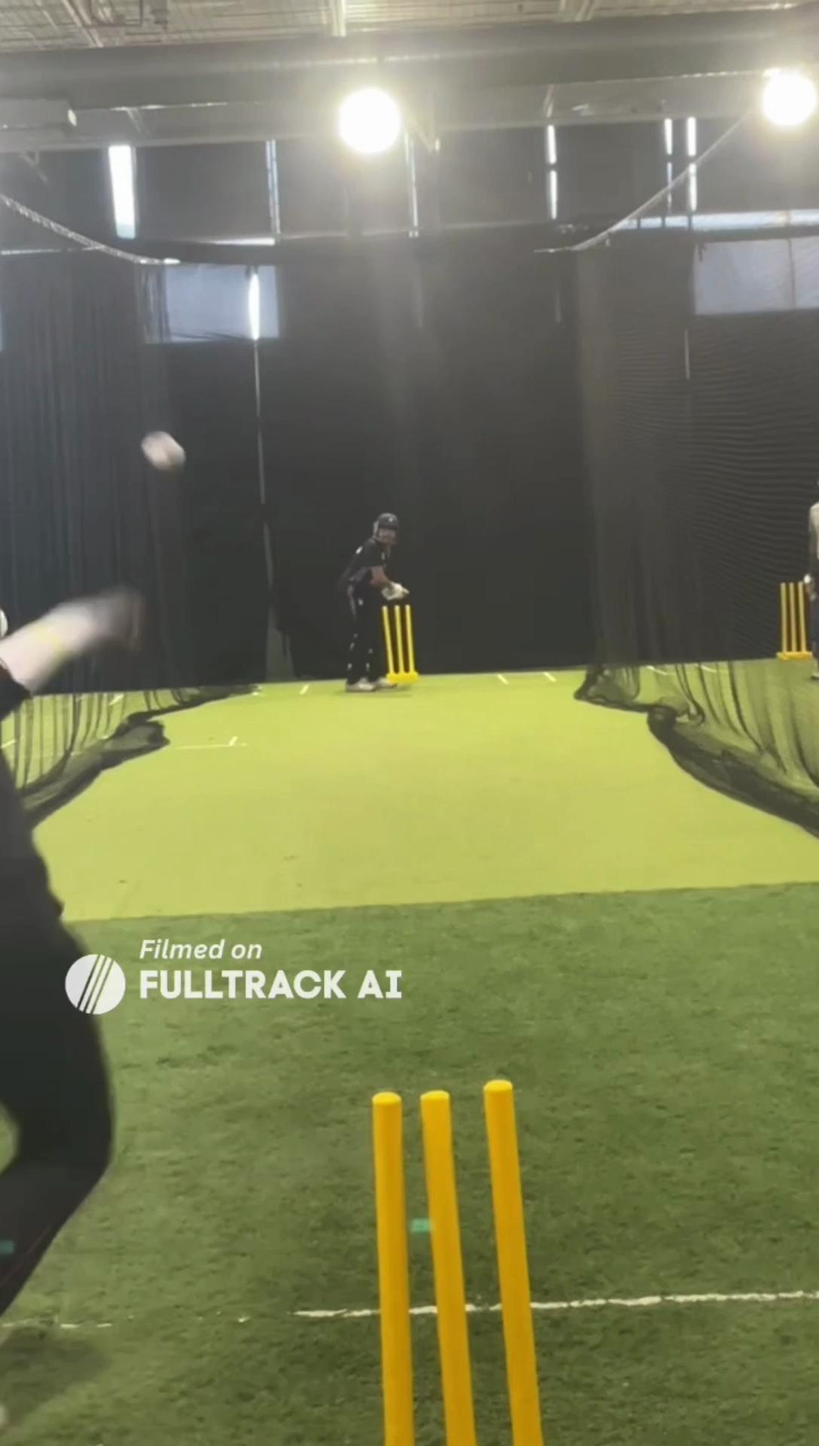ball: (130, 407, 198, 491)
